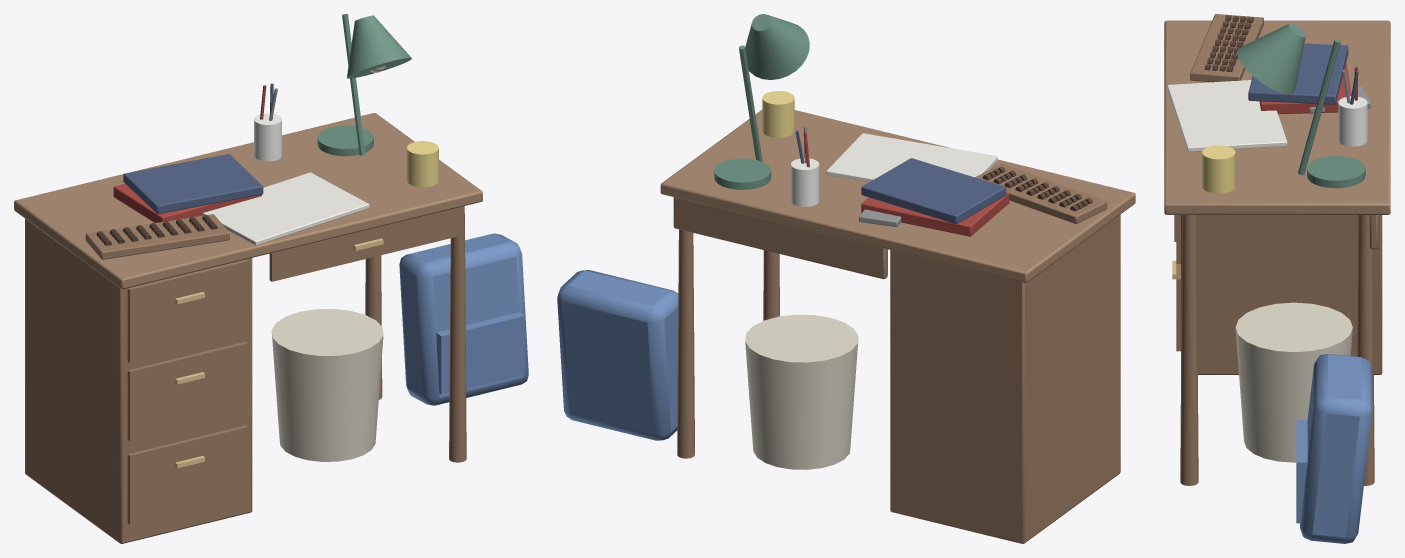
The model's file is dn_desk.fbx.
The picture shows the model from 3 angles, left to right: view 1: azimuth 30°, elevation 25°; view 2: azimuth 150°, elevation 25°; view 3: azimuth 270°, elevation 25°; orthographic projection. The views are drawn at different scales.
Parts seen in each view (by area): view 1: Pedestal, DeskTop, Bin, SchoolBag, PedDrawer0, PedDrawer2, PedDrawer1, OpenBook, MidDrawer, Ledger2, BagPocket, DeskLeg.001 (+9 smaller); view 2: Pedestal, DeskTop, SchoolBag, Bin, Apron, Ledger2, OpenBook, DeskLeg, LampShade, AbacusFrame, Ledger1, LampBase (+5 smaller); view 3: DeskTop, Pedestal, Bin, SchoolBag, OpenBook, DeskLeg.001, LampShade, Ledger2, DeskLeg, AbacusFrame, LampBase, Mug (+7 smaller).
Part boxes in pixels (x1=…): Pedestal: x1=25, y1=219, x2=252, y2=543; DeskTop: x1=14, y1=113, x2=482, y2=289; Bin: x1=271, y1=308, x2=383, y2=461; SchoolBag: x1=399, y1=233, x2=528, y2=405; PedDrawer0: x1=127, y1=259, x2=248, y2=362; PedDrawer2: x1=127, y1=425, x2=248, y2=524; PedDrawer1: x1=127, y1=341, x2=248, y2=440; OpenBook: x1=202, y1=172, x2=369, y2=245; MidDrawer: x1=269, y1=206, x2=463, y2=281; Ledger2: x1=123, y1=154, x2=263, y2=213; BagPocket: x1=436, y1=312, x2=524, y2=394; DeskLeg.001: x1=449, y1=206, x2=466, y2=462; Pedestal: x1=890, y1=214, x2=1120, y2=543; DeskTop: x1=660, y1=110, x2=1135, y2=282; SchoolBag: x1=557, y1=270, x2=678, y2=440; Bin: x1=745, y1=314, x2=858, y2=469; Apron: x1=673, y1=197, x2=887, y2=279; Ledger2: x1=861, y1=158, x2=1006, y2=223; OpenBook: x1=826, y1=133, x2=997, y2=182; DeskLeg: x1=677, y1=229, x2=694, y2=458; LampShade: x1=745, y1=14, x2=809, y2=79; AbacusFrame: x1=975, y1=164, x2=1107, y2=223; Ledger1: x1=861, y1=192, x2=1009, y2=236; LampBase: x1=714, y1=158, x2=771, y2=189; DeskTop: x1=1164, y1=20, x2=1390, y2=214; Pedestal: x1=1181, y1=215, x2=1382, y2=374; Bin: x1=1235, y1=302, x2=1352, y2=462; SchoolBag: x1=1300, y1=354, x2=1372, y2=543; OpenBook: x1=1167, y1=80, x2=1287, y2=151; DeskLeg.001: x1=1180, y1=215, x2=1198, y2=485; LampShade: x1=1237, y1=23, x2=1305, y2=94; Ledger2: x1=1248, y1=43, x2=1348, y2=104; DeskLeg: x1=1357, y1=215, x2=1374, y2=485; AbacusFrame: x1=1190, y1=14, x2=1263, y2=82; LampBase: x1=1307, y1=156, x2=1365, y2=188; Mug: x1=1202, y1=145, x2=1235, y2=193.
Bounding box in the file's own units: 1.37 × 1.15 × 0.54.
